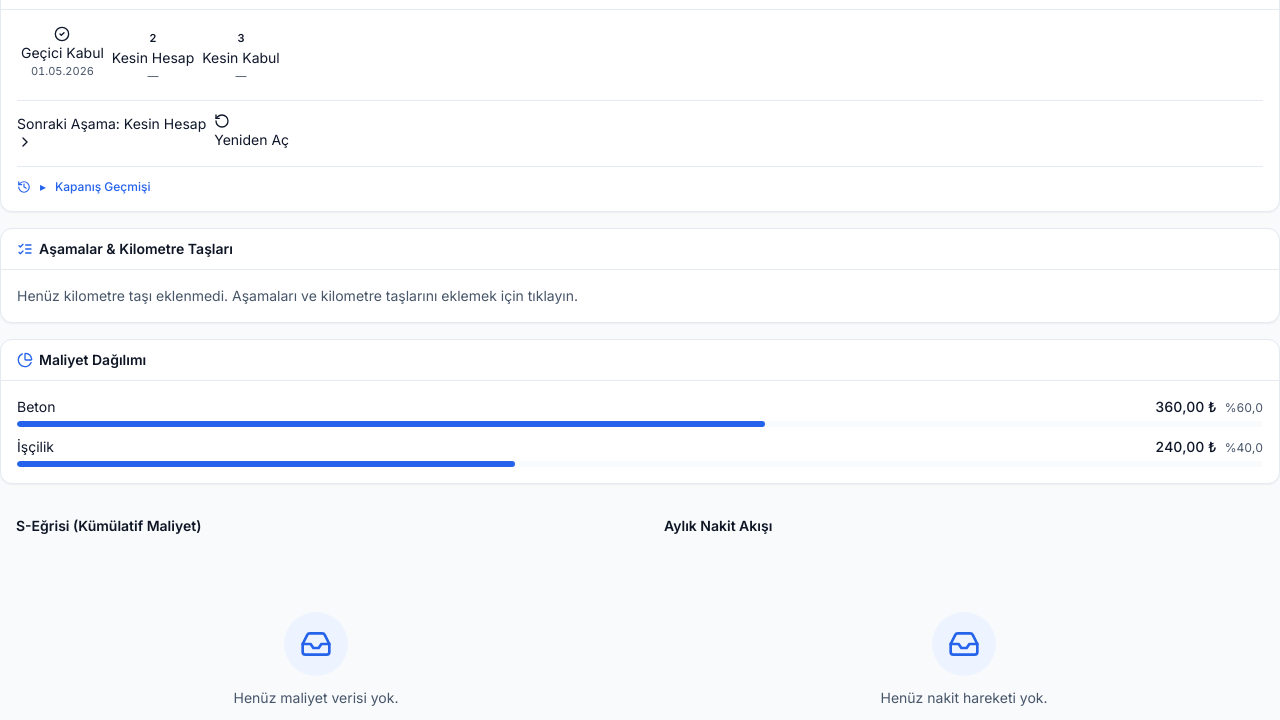
Test: ProjectDashboardPage redesign › renders Maliyet Dağılımı and opens its drill-down modal
(page scrolled)
Expected: the text "Beton" is shown, [17,397,55,417]
Expected: the text "%60,0" is shown, [1225,400,1263,415]
Click the text "Maliyet Dağılımı" at (82, 360), box [17,350,146,370]
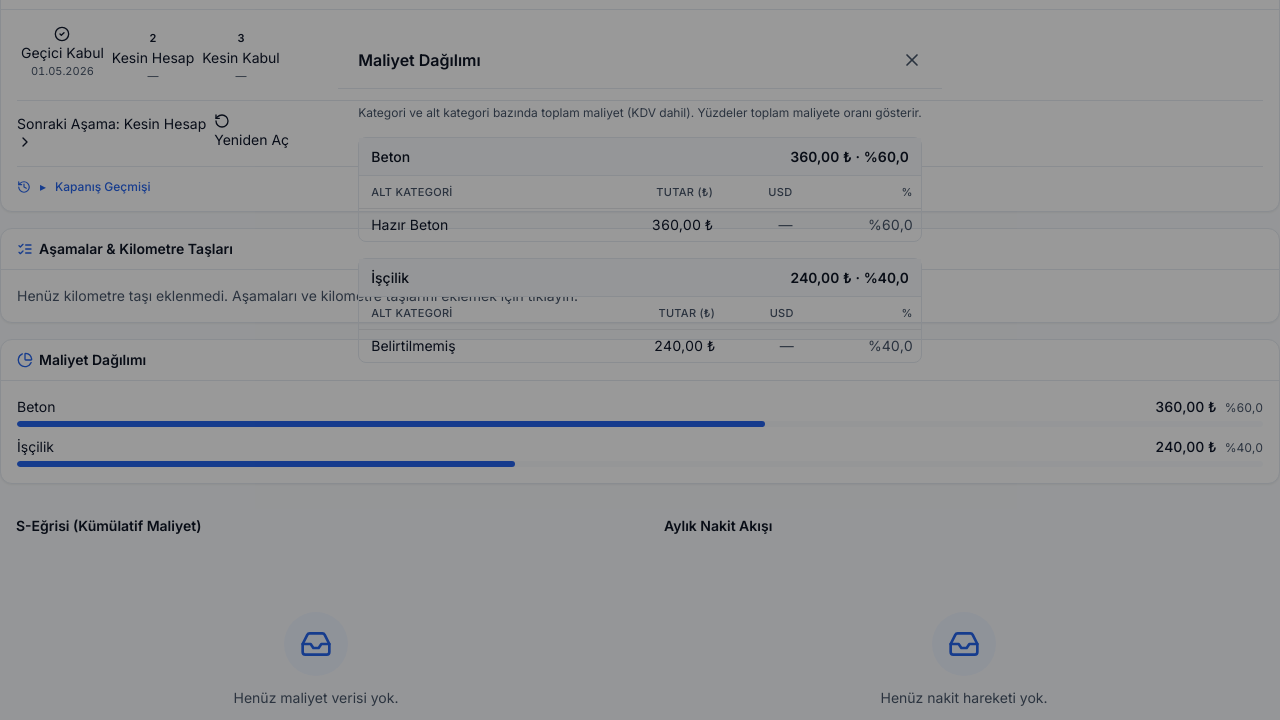
Now the text "Hazır Beton" is shown, box [359,208,568,241]
